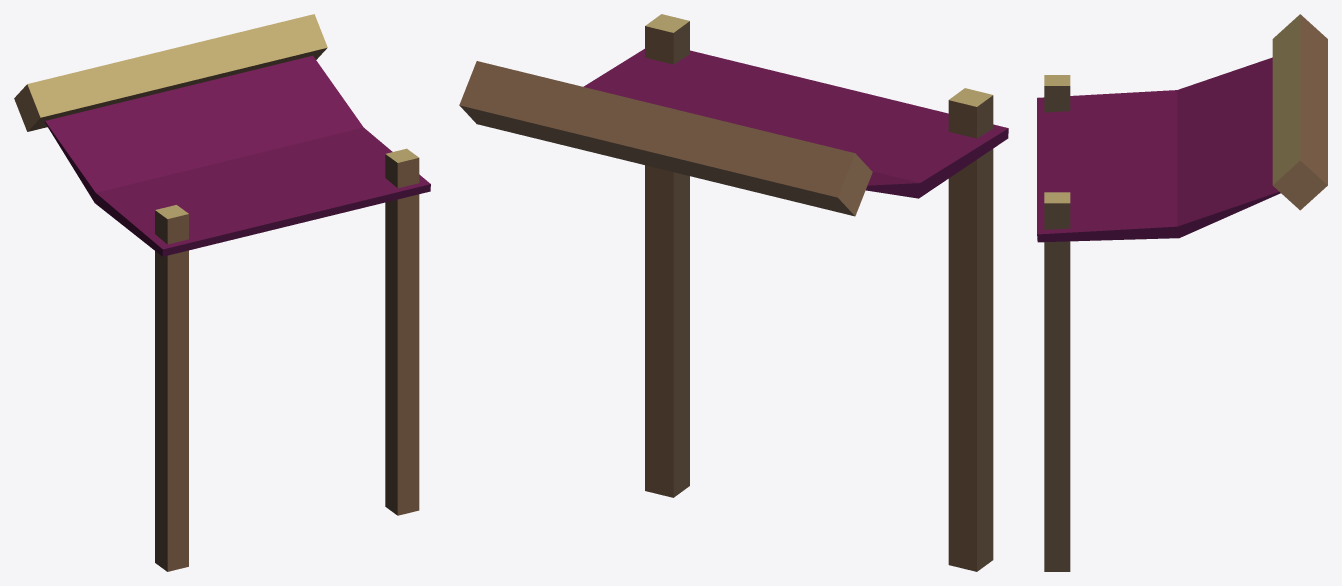
Rendered from TB_D_Bd_Canopy_Leg_E.FBX.
The picture shows the model from 3 angles, left to right: view 1: azimuth 30°, elevation 25°; view 2: azimuth 150°, elevation 25°; view 3: azimuth 270°, elevation 25°; orthographic projection. The views are drawn at different scales.
Visible parts, largest first — view 1: TB_D_Bd_Canopy_Leg_E; view 2: TB_D_Bd_Canopy_Leg_E; view 3: TB_D_Bd_Canopy_Leg_E.
Part boxes in pixels (x1,y1,x2,y2): TB_D_Bd_Canopy_Leg_E: [14, 14, 430, 571]; TB_D_Bd_Canopy_Leg_E: [459, 14, 1008, 571]; TB_D_Bd_Canopy_Leg_E: [1037, 14, 1327, 571].
Bounding box in the file's own units: 1.88 × 2.52 × 1.58.
